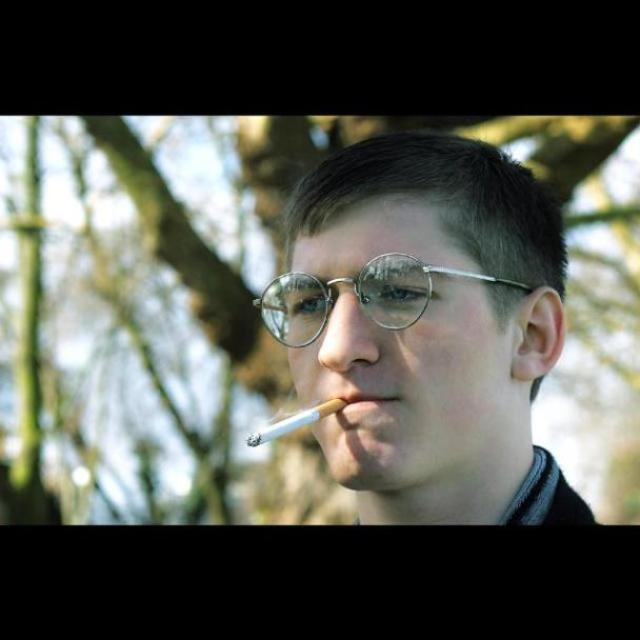rokok: (241, 392, 349, 451)
